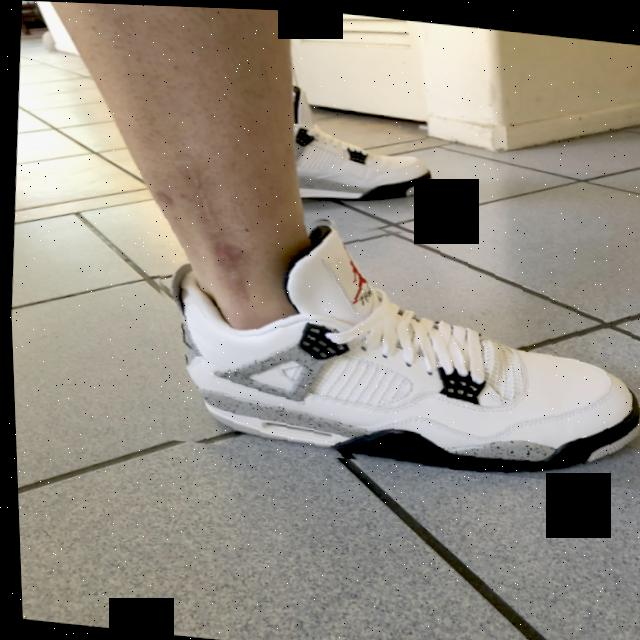shoe: (138, 194, 640, 485)
